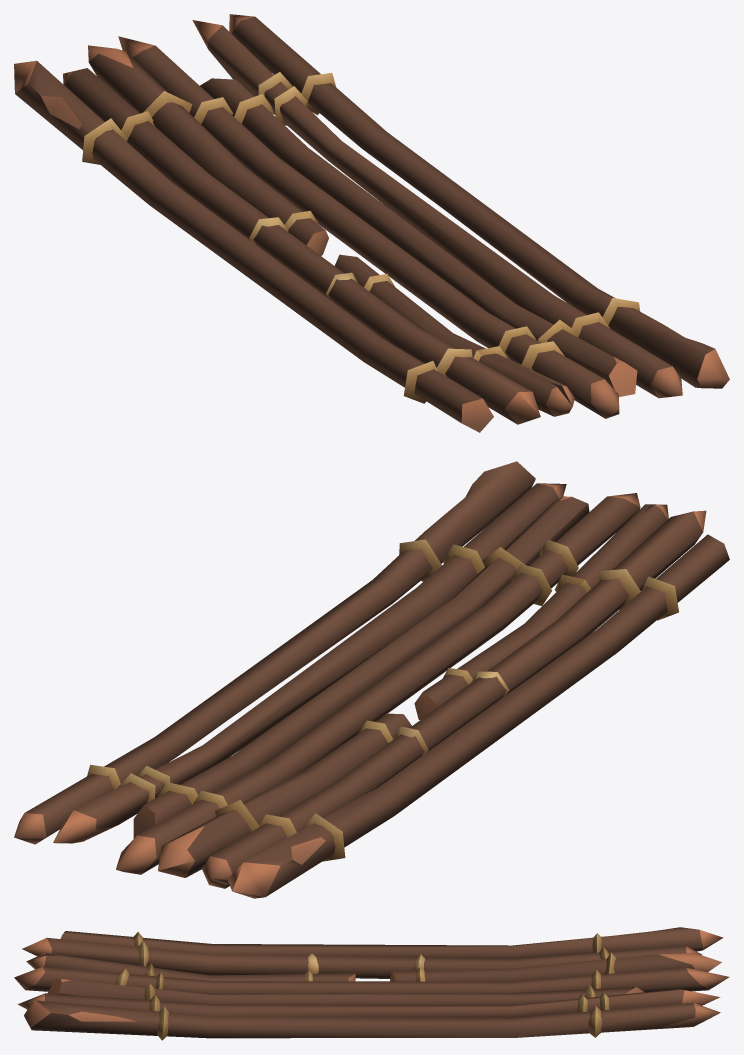
Rendered from Bridge_2A.FBX.
3 renders of one model, top to bottom at view 1: azimuth 30°, elevation 25°; view 2: azimuth 150°, elevation 25°; view 3: azimuth 270°, elevation 25°, orthographic. The views are drawn at different scales.
Parts seen in each view (by area): view 1: Bridge_2A; view 2: Bridge_2A; view 3: Bridge_2A.
Part boxes in pixels (x1,y1,x2,y2): Bridge_2A: (14, 14, 729, 432); Bridge_2A: (14, 461, 729, 898); Bridge_2A: (14, 927, 729, 1040).
Bounding box in the file's own units: 2.08 × 0.4911 × 7.04.
